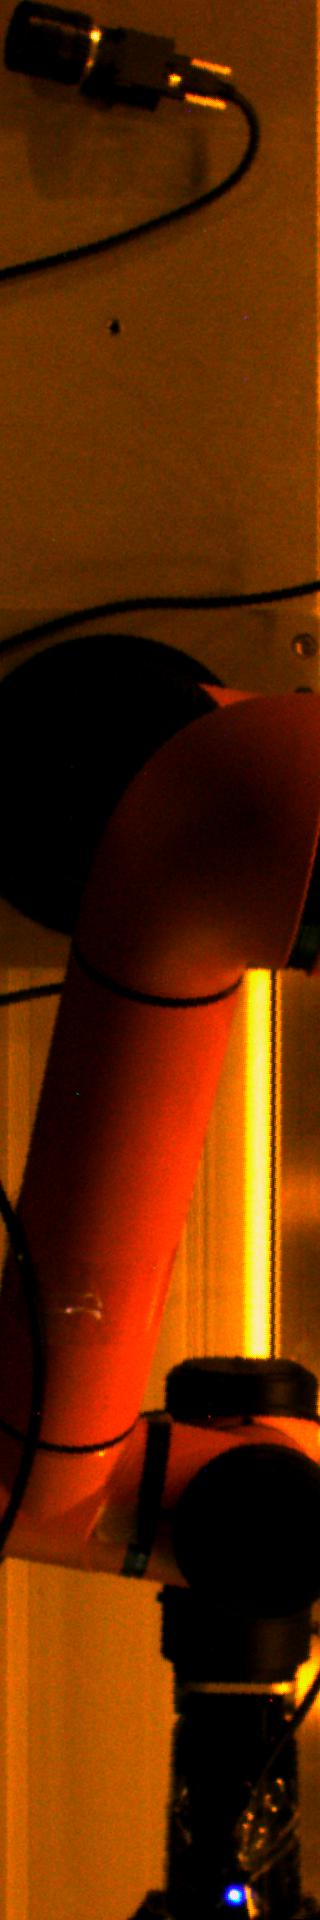keyPoint_1: (219, 1880, 250, 1909)
keyPoint_2: (99, 313, 129, 344)
